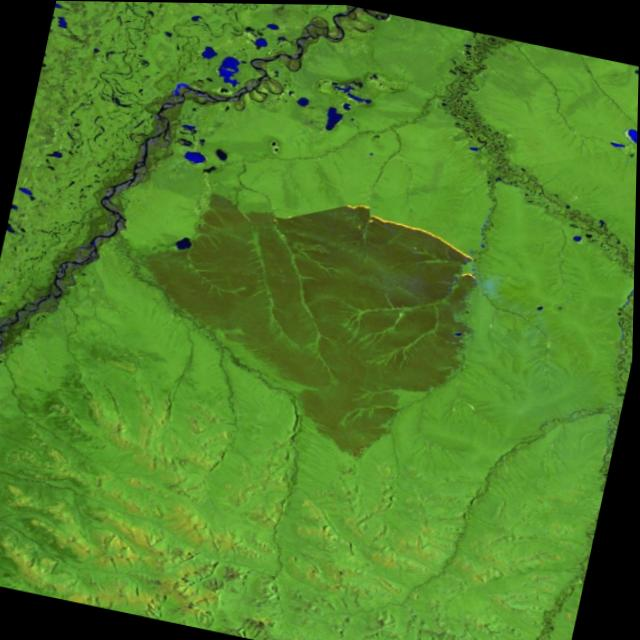fire: (327, 195, 498, 286)
